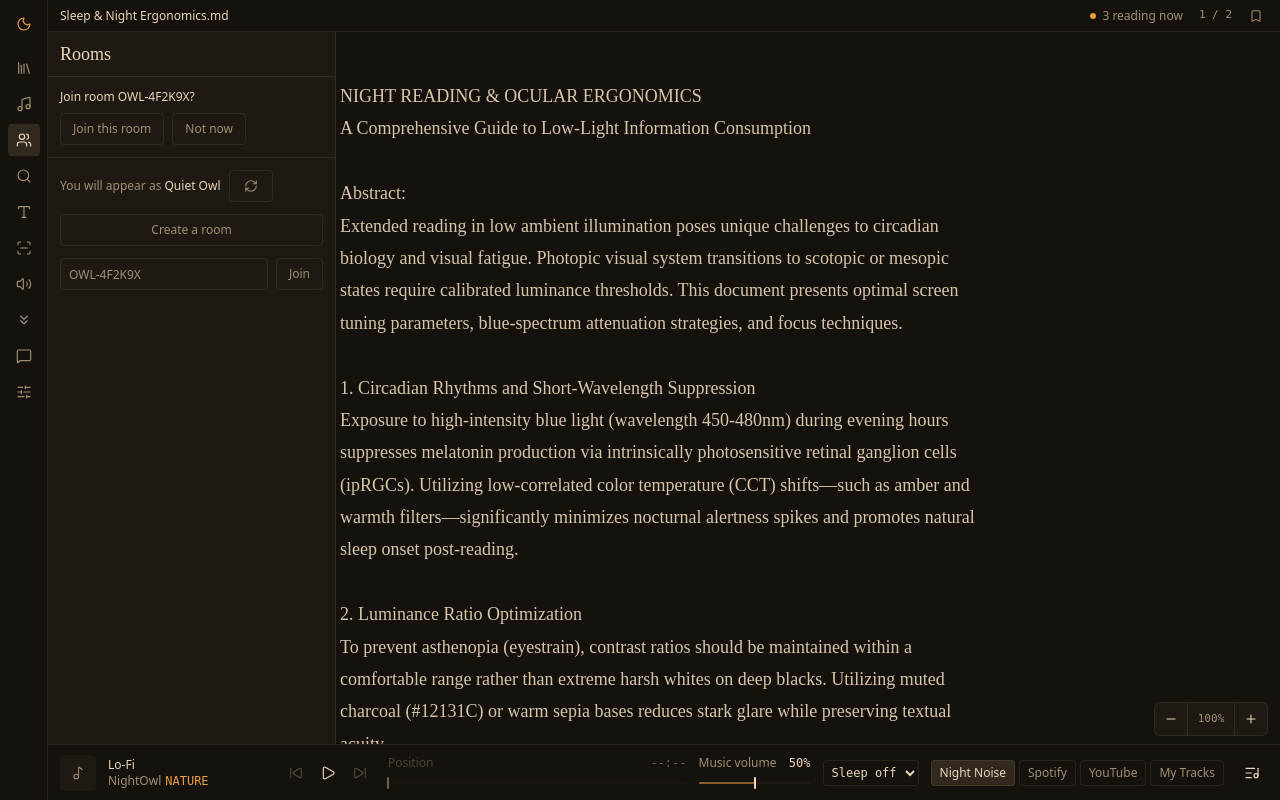
Test: App rooms › asks before joining from a #room= link, then clears the link
expect the text "Join room OWL-4F2K9X?" is shown: met, box [60,88,195,105]
Click the button "Join this room". click: (112, 129)
box: [60,113,164,145]
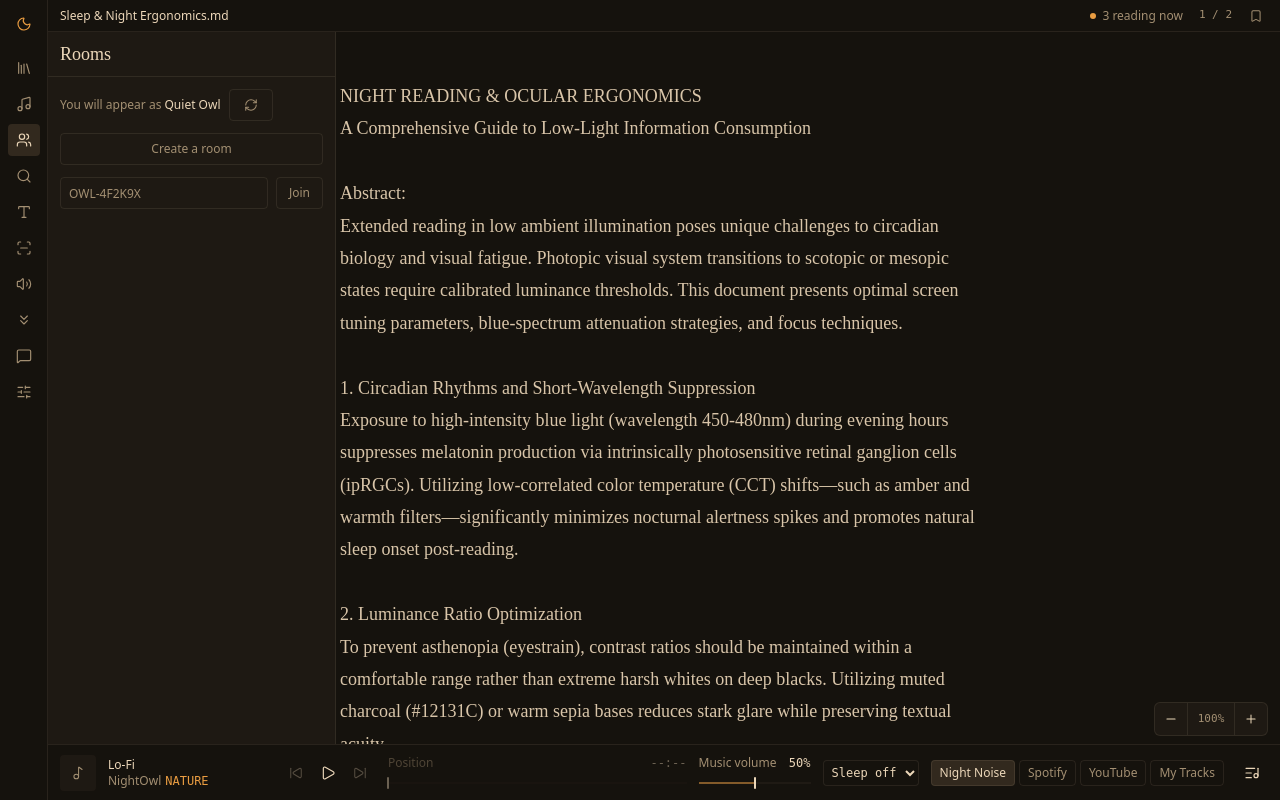
expect the text "Join room OWL-4F2K9X?" is gone: met
